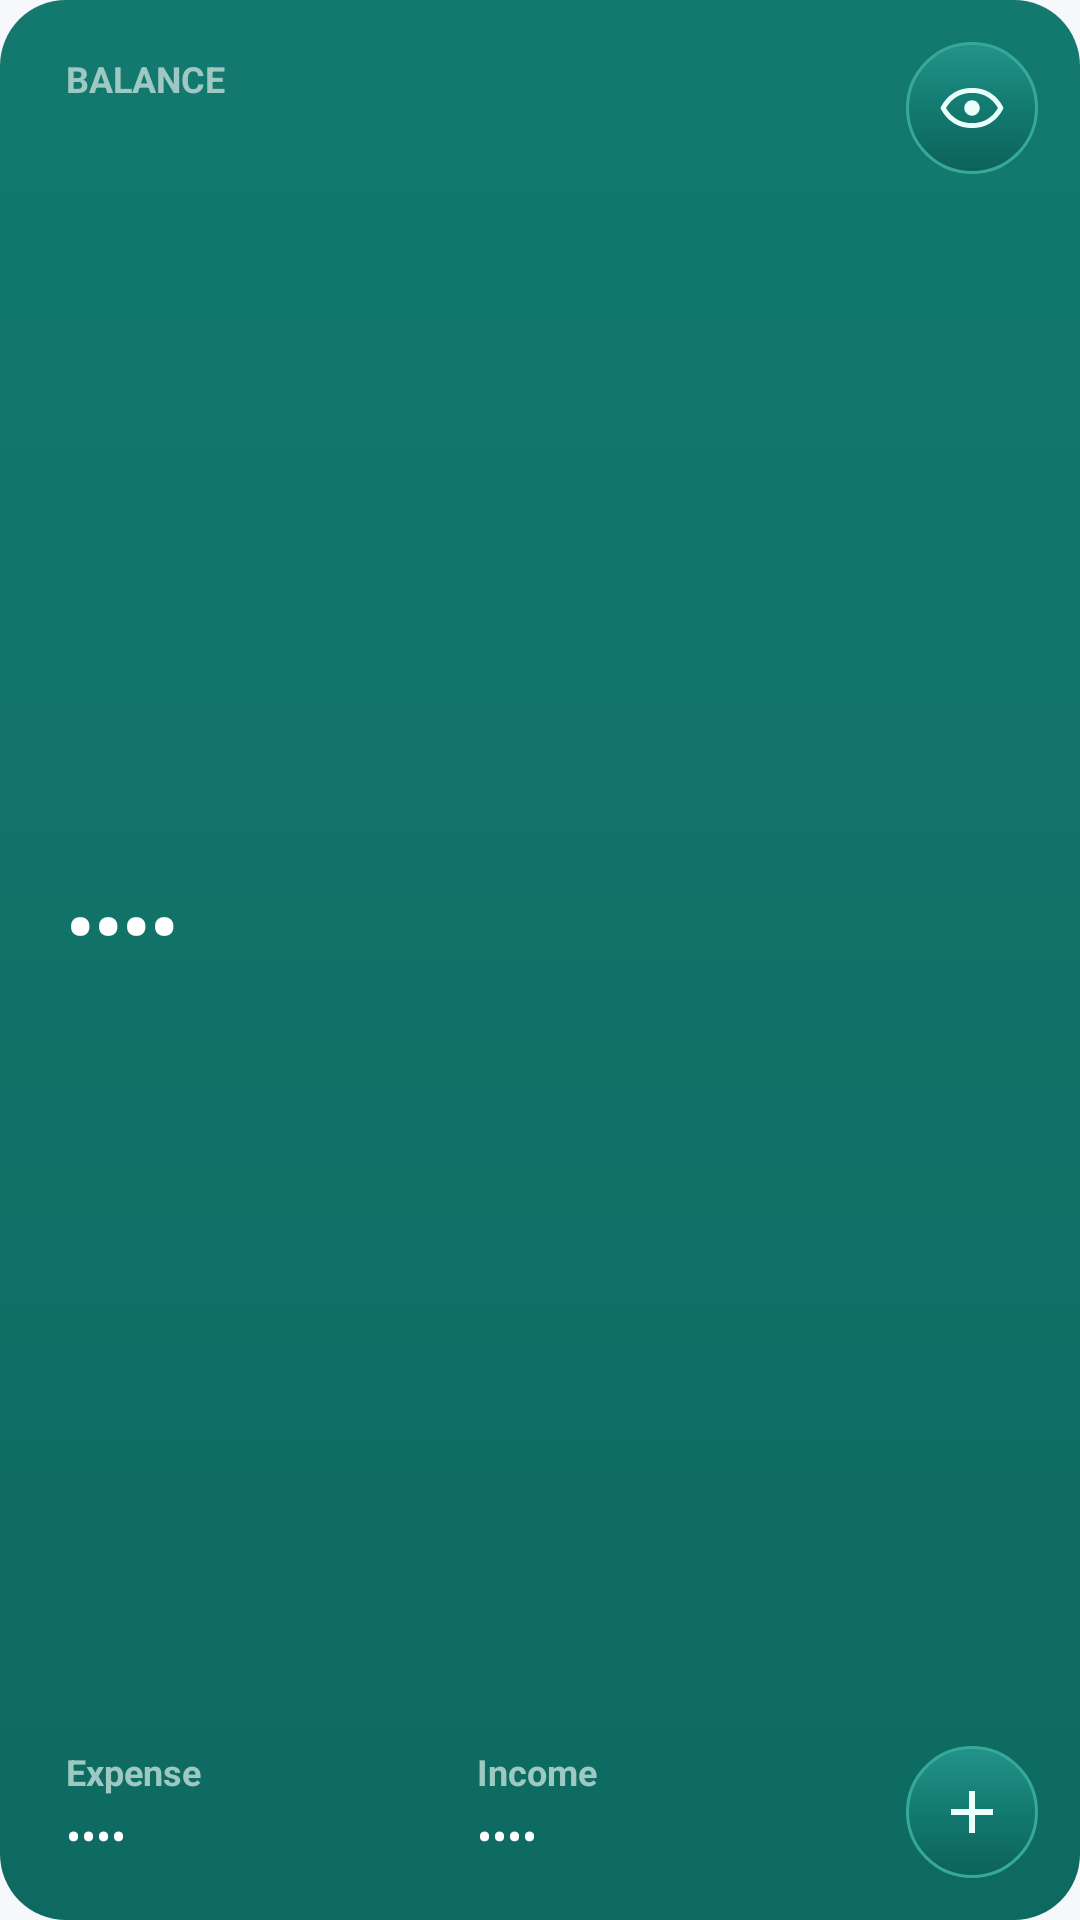

Screen size 1080w x 1920h. Icon name, then its center in pixels as [x,y]:
Add transaction: [972,1812]
Show amounts: [972,108]
